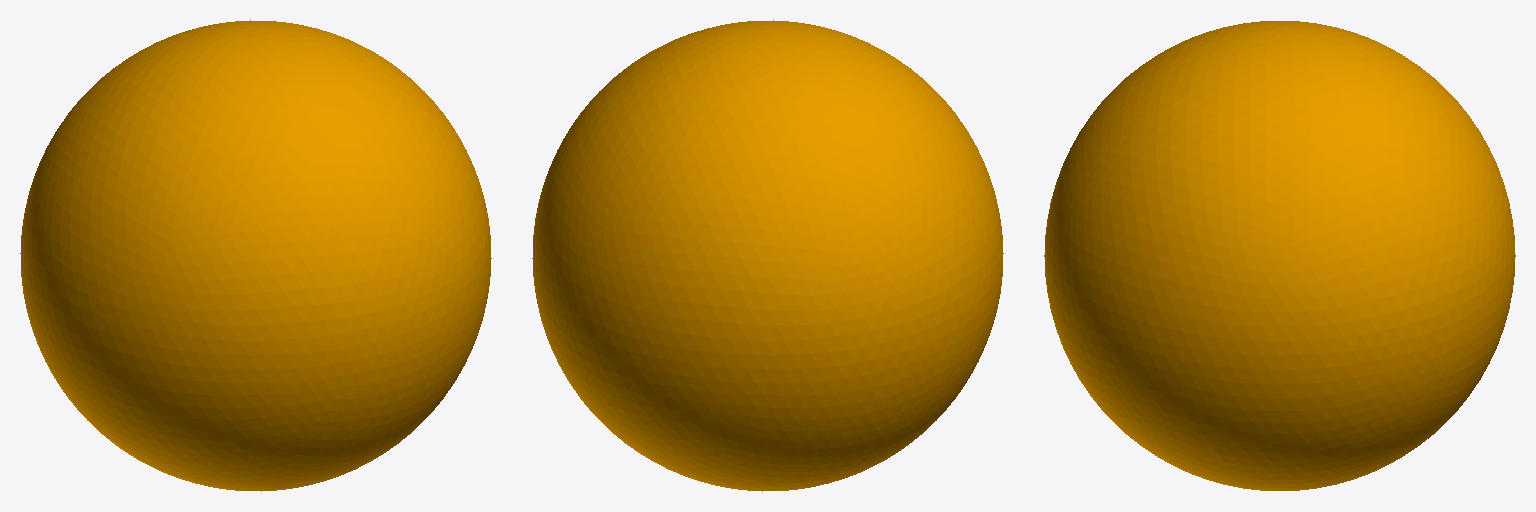
URDF robot description (sphere):

<robot name="sphere">
    <link name="base">
        <inertial>
            <origin xyz="0.0 -0.0 -0.0" />
            <mass value="0.5225" />
            <inertia ixx="0.0522" ixy="-0.0" 
                     ixz="0.0" iyy="0.0522" 
                     iyz="0.0" izz="0.0522" />
        </inertial>
        <visual>
            <origin xyz="0 0 0" />
            <geometry>
                <mesh filename="visual_geometry.obj" />
            </geometry>
        </visual>
        <collision>
            <origin xyz="0 0 0" />
            <geometry>
                <mesh filename="collision_geometry.obj" />
            </geometry>
        </collision>
    </link>
</robot>

--- Render facts (derived) ---
Views: 3 orthographic renders of the robot side by side, from view 1: azimuth 30°, elevation 25°; view 2: azimuth 150°, elevation 25°; view 3: azimuth 270°, elevation 25°.
Model sphere with 1 links and 0 joints (none), rooted at base, posed all joints at 0.
Visible links, largest first — view 1: base; view 2: base; view 3: base.
Link boxes in pixels (bbox=[...]): base: bbox=[20, 20, 491, 491]; base: bbox=[532, 20, 1003, 491]; base: bbox=[1044, 21, 1515, 490].
Size in the robot's own frame: 1 by 1 by 1 metres.
Meshes: 1 distinct files referenced, 1 mesh visuals loaded (1 OBJ).